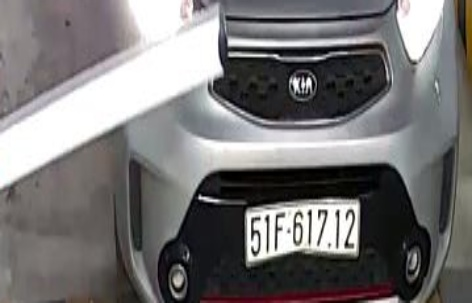plate: (244, 194, 361, 261)
